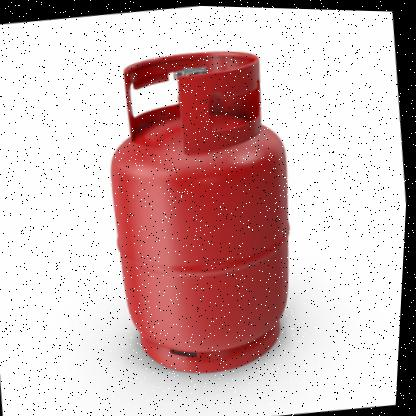gas-tank: (76, 27, 332, 392)
